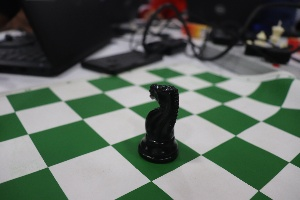black_horse: (133, 66, 187, 166)
